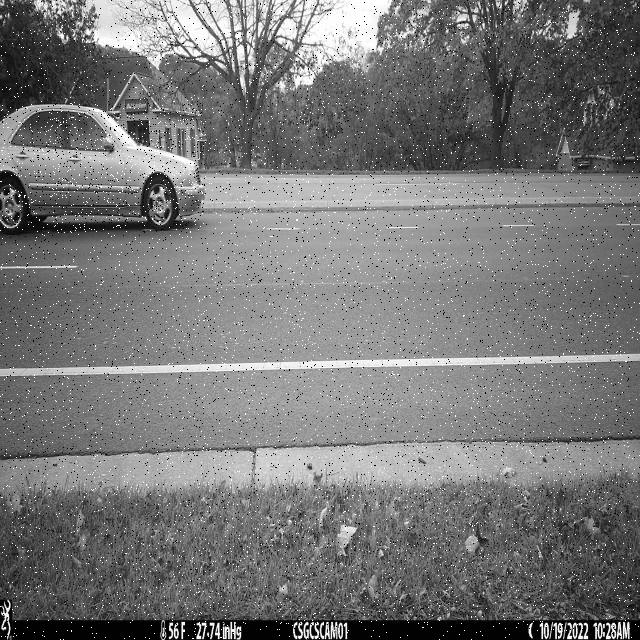Sedan: (0, 104, 206, 232)
